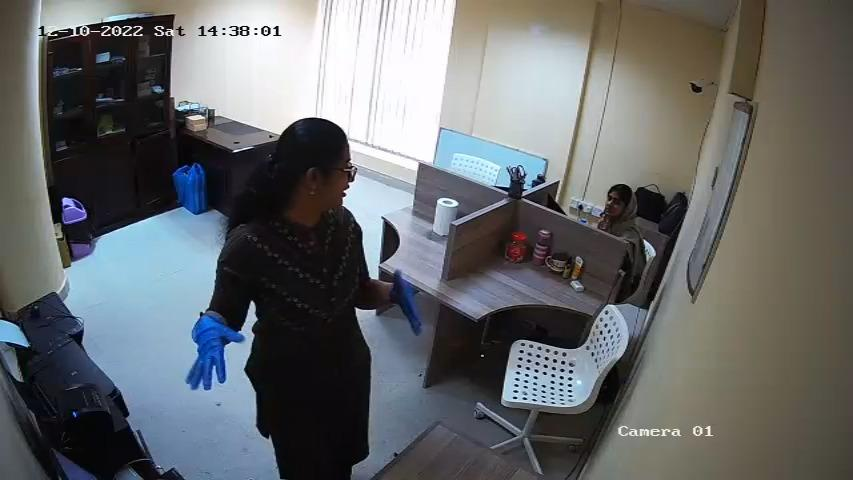gloves: (181, 314, 248, 398), (387, 269, 425, 338)
